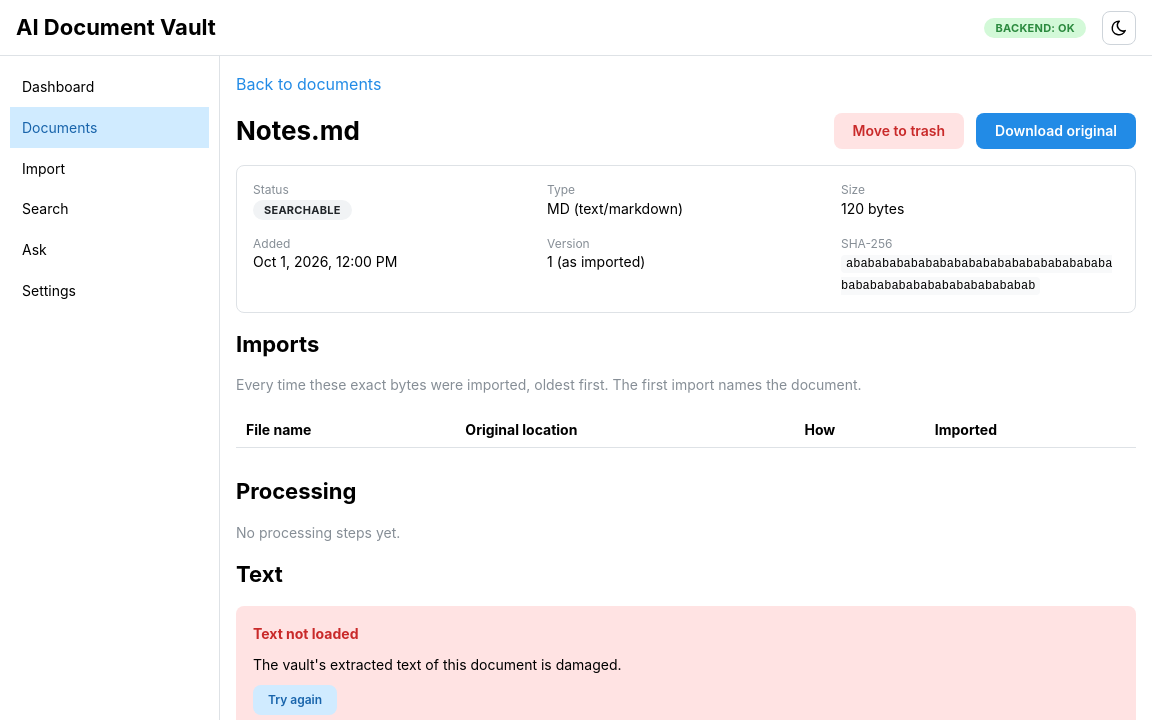
text view › says when the stored text is damaged, and tries again on request
Expected: the text "The vault's extracted text of this document is damaged." is shown, x1=253 y1=655 x2=622 y2=675
Click the button "Try again" at (295, 700), box x1=253 y1=685 x2=337 y2=715
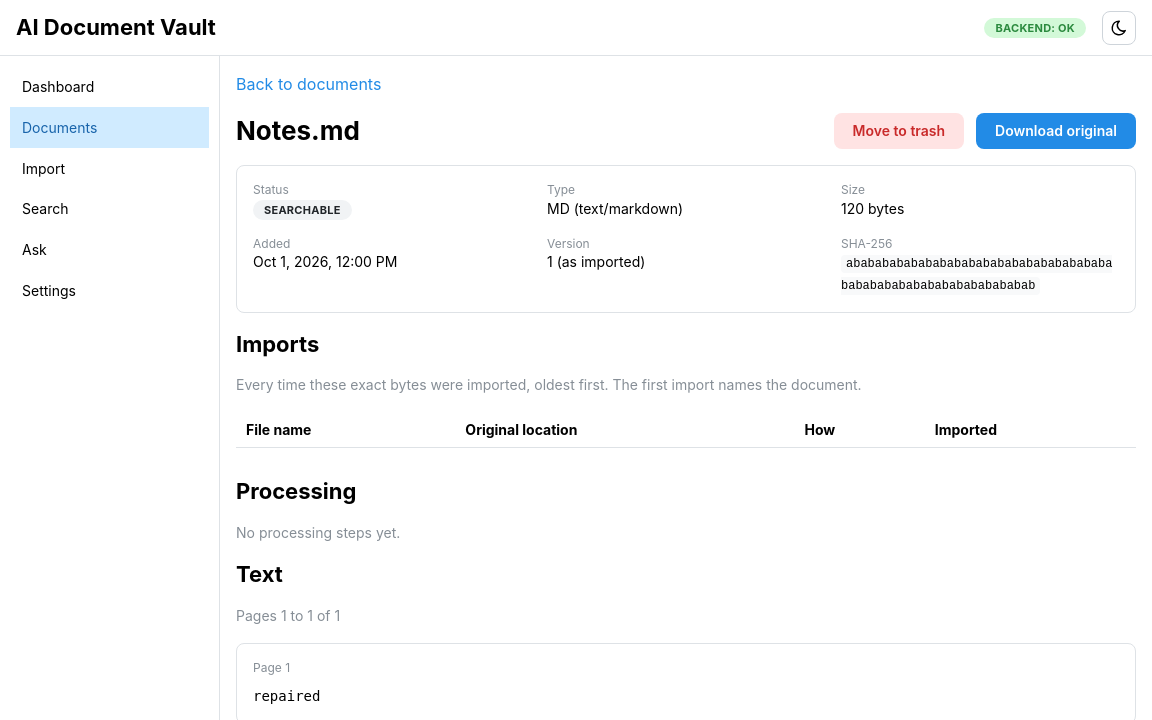
Result: the text "repaired" is shown at x1=253 y1=688 x2=320 y2=704
